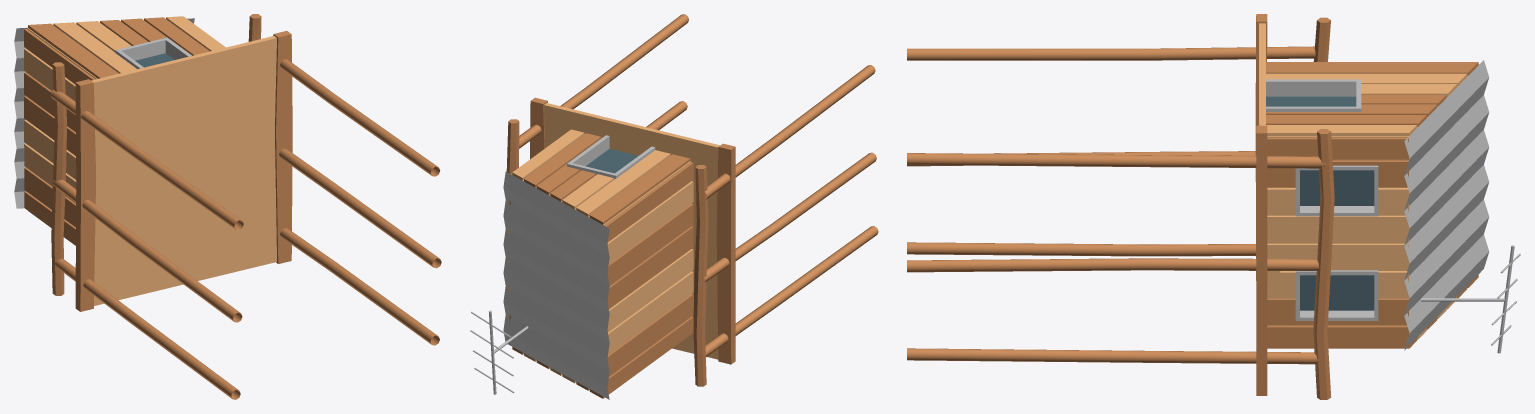
File: Hut_2.fbx
The picture shows the model from 3 angles, left to right: view 1: azimuth 30°, elevation 25°; view 2: azimuth 150°, elevation 25°; view 3: azimuth 270°, elevation 25°; orthographic projection. The views are drawn at different scales.
Visible parts, largest first — view 1: Circle.007; view 2: Circle.007; view 3: Circle.007.
Part boxes in pixels (bbox=[...]): Circle.007: bbox=[14, 14, 441, 399]; Circle.007: bbox=[470, 14, 878, 399]; Circle.007: bbox=[907, 14, 1520, 399].
Bounding box in the file's own units: 242 × 252 × 524.
